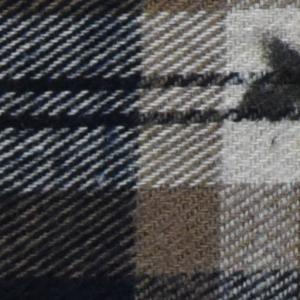Stain: (231, 28, 300, 152)
